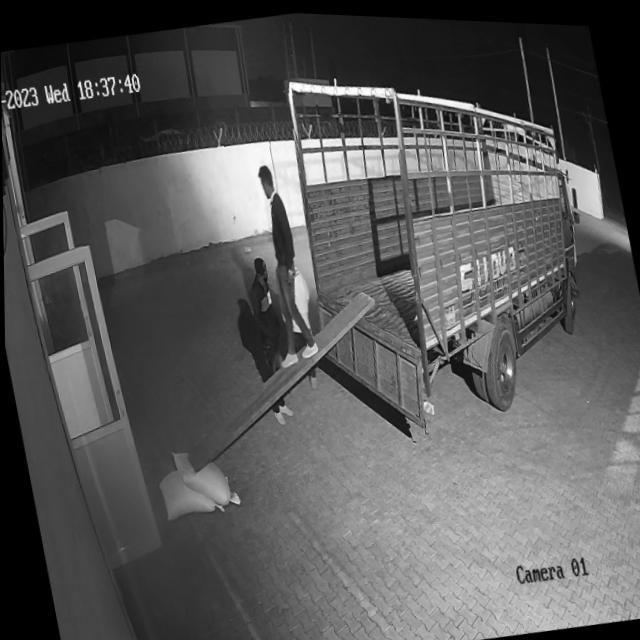sack: (170, 439, 239, 512), (154, 461, 222, 521)
